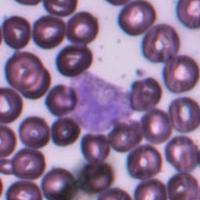E: (71, 71, 131, 131)
